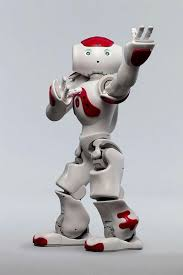nao: (31, 6, 162, 275)
